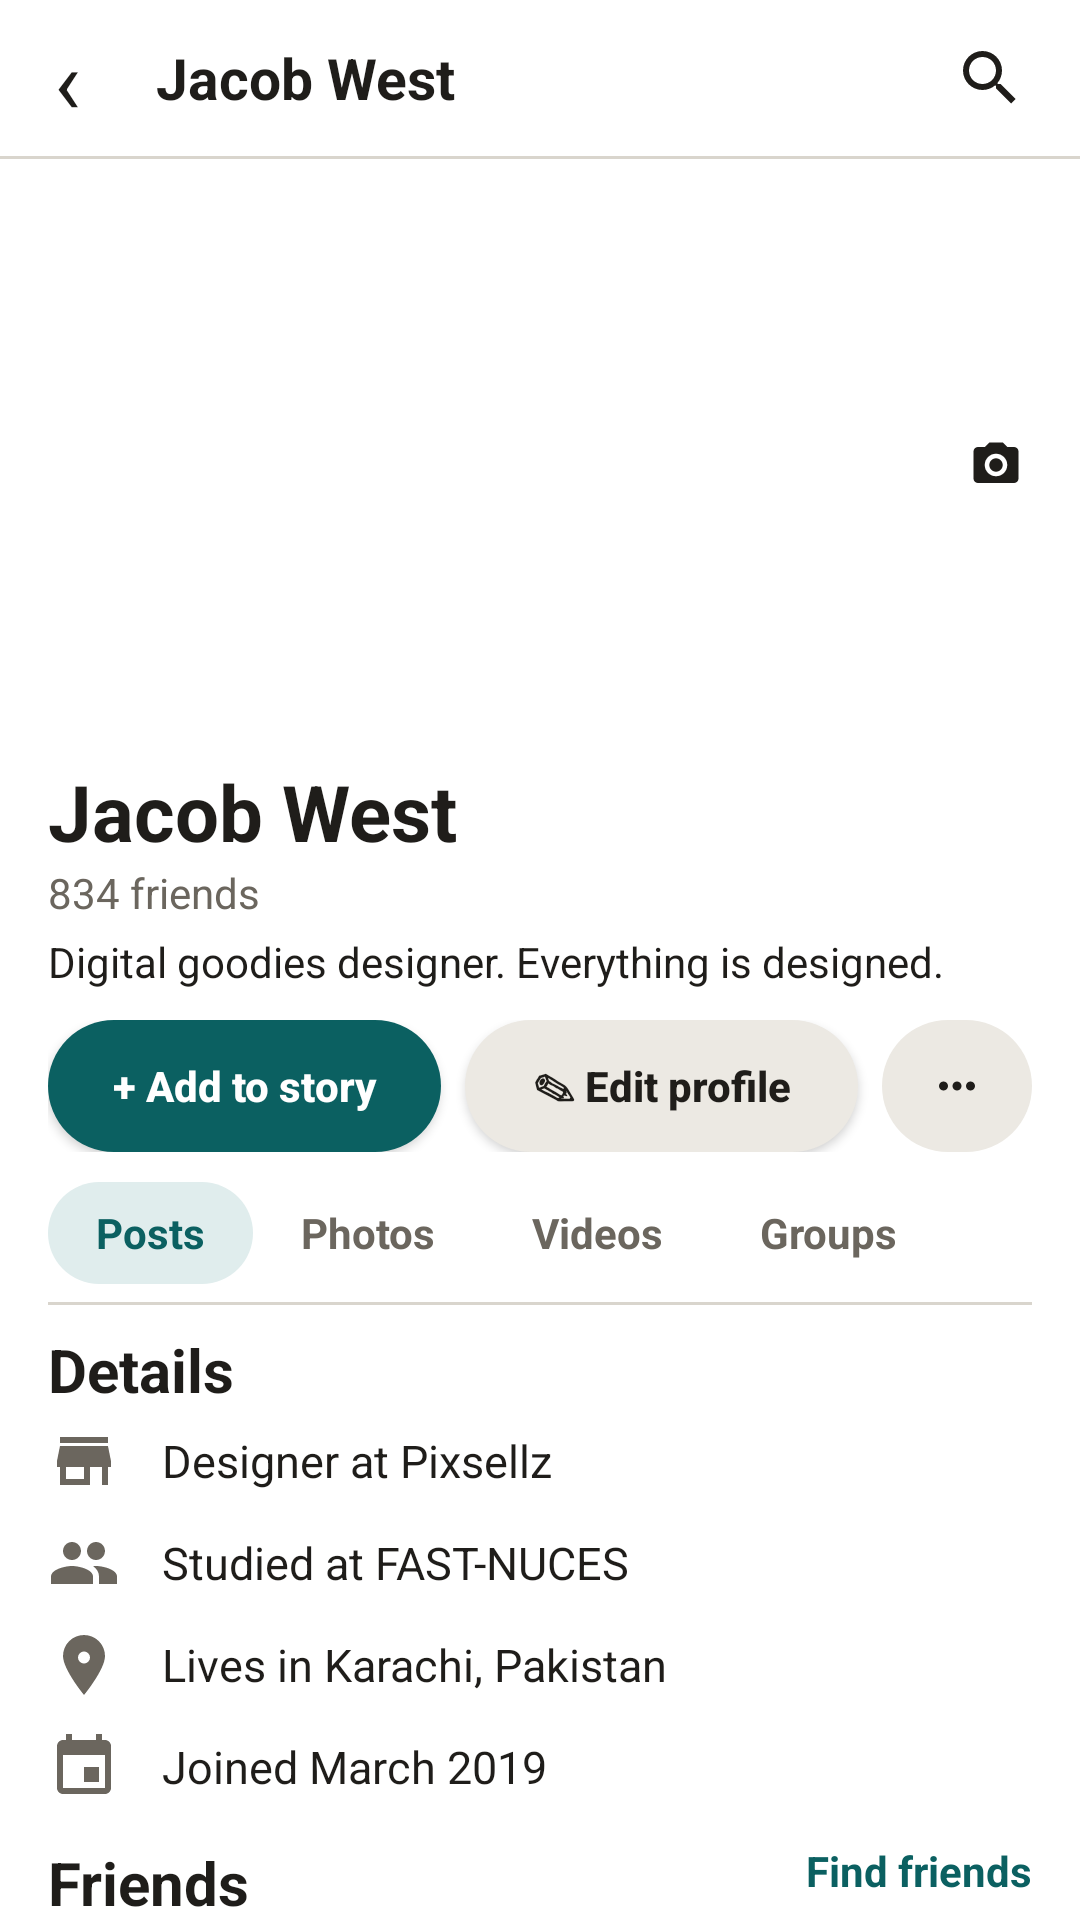

Icons on this 1080 x 1920 Android screen, each with the point to tap as [x,y]:
camera: [996,462]
search: [989,77]
